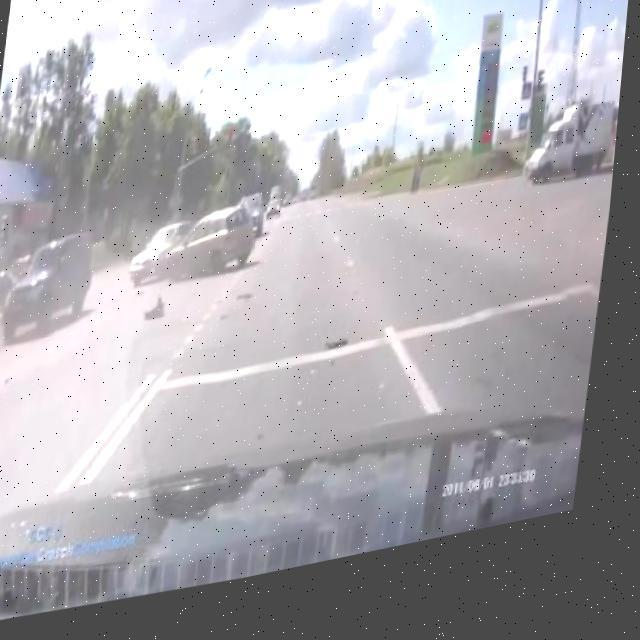Car Accident Detector - v4 Generation1 Exported: (127, 202, 270, 316)
